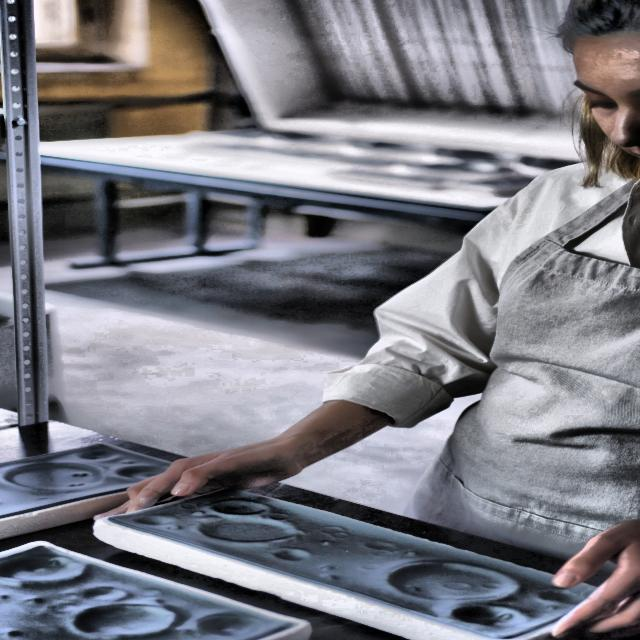not-gloved: (113, 427, 299, 518), (503, 528, 640, 640)
